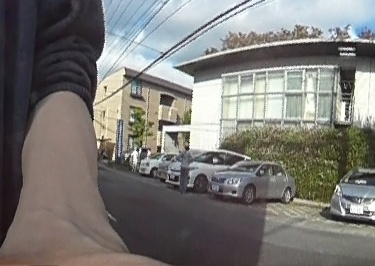person: (178, 142, 192, 187), (129, 146, 138, 166)
